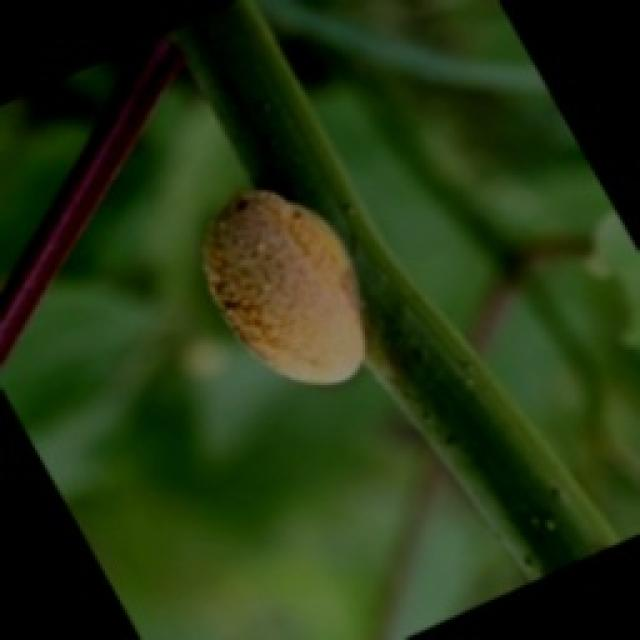Elderberry_rust: (184, 182, 393, 380)
